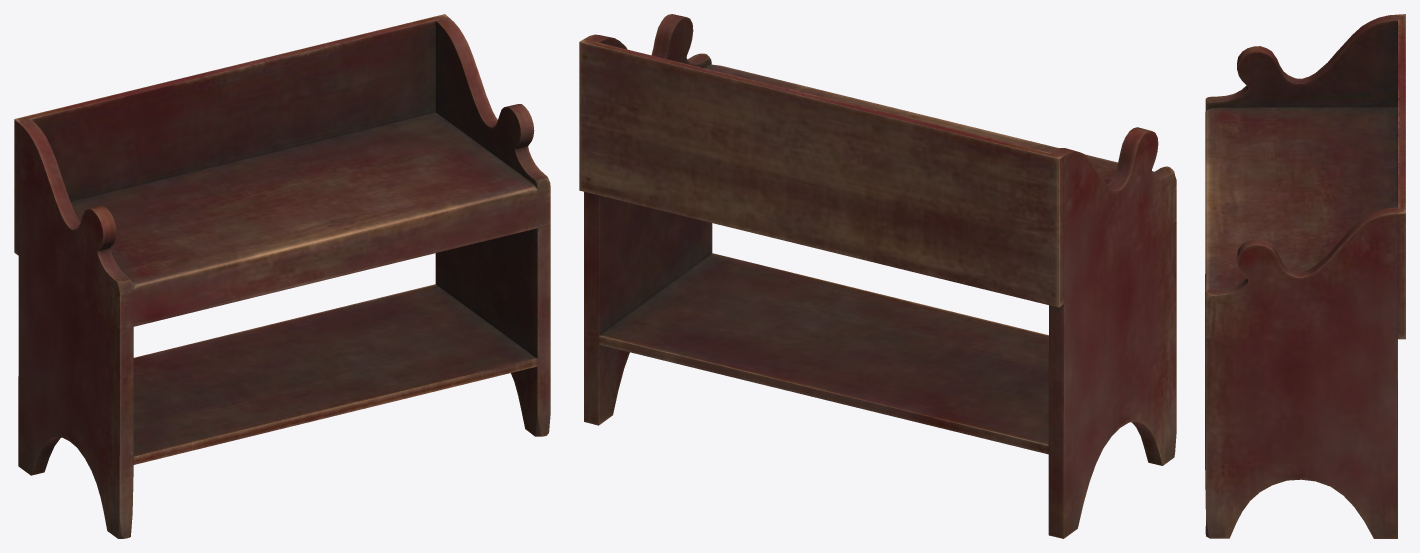
Rendered from painted_wooden_bench.glb.
3 views of the same model, side by side, from view 1: azimuth 30°, elevation 25°; view 2: azimuth 150°, elevation 25°; view 3: azimuth 270°, elevation 25° (orthographic). The views are drawn at different scales.
Parts seen in each view (by area): view 1: painted_wooden_bench; view 2: painted_wooden_bench; view 3: painted_wooden_bench.
Part boxes in pixels (x1=…): painted_wooden_bench: x1=14, y1=14, x2=550, y2=538; painted_wooden_bench: x1=579, y1=14, x2=1176, y2=538; painted_wooden_bench: x1=1205, y1=14, x2=1405, y2=538.
Size of the model in its own units: 1.16 by 0.8895 by 0.4968.
1 material, 1 textured.
